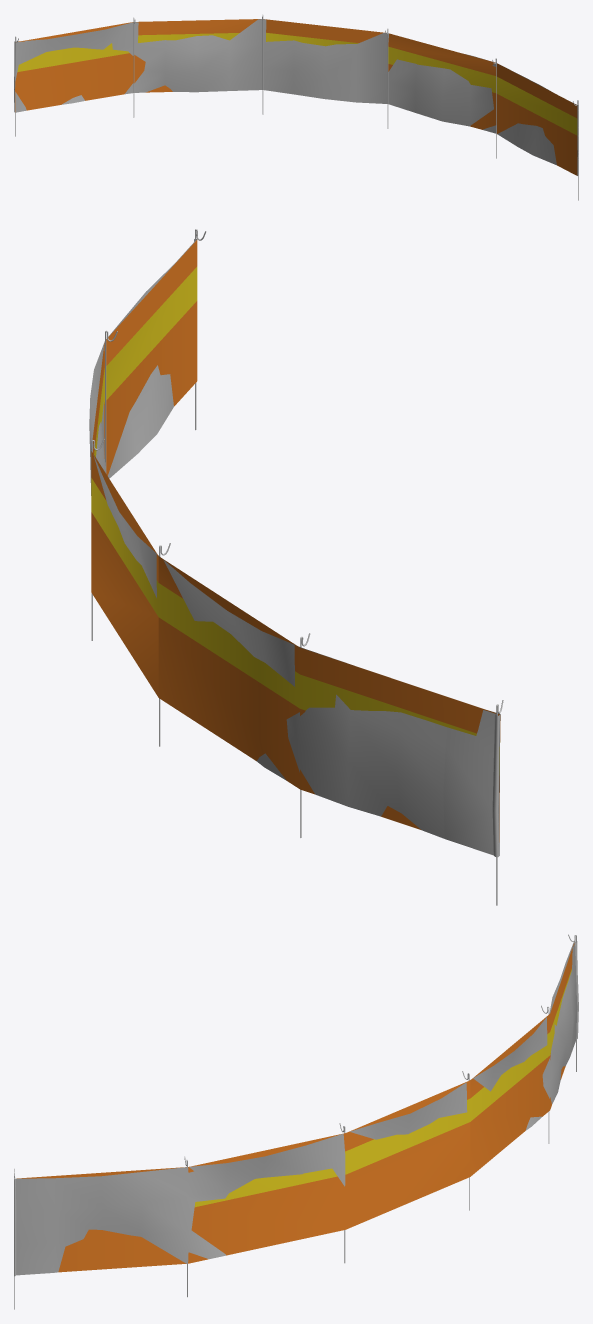
File: ut_race_mesh_barricade_curve.DAE
3 renders of one model, top to bottom at view 1: azimuth 30°, elevation 25°; view 2: azimuth 150°, elevation 25°; view 3: azimuth 270°, elevation 25°, orthographic. The views are drawn at different scales.
Visible parts, largest first — view 1: mesh_barricade_c1000, mesh_barricade_c80, mesh_barricade_c100; view 2: mesh_barricade_c80, mesh_barricade_c100, mesh_barricade_c1000; view 3: mesh_barricade_c80, mesh_barricade_c100, mesh_barricade_c1000.
Boxes of the visible parts, bbox=[...] form: mesh_barricade_c1000: bbox=[14, 14, 578, 200]; mesh_barricade_c80: bbox=[15, 19, 577, 175]; mesh_barricade_c100: bbox=[15, 39, 577, 175]; mesh_barricade_c80: bbox=[91, 240, 500, 842]; mesh_barricade_c100: bbox=[89, 242, 499, 838]; mesh_barricade_c1000: bbox=[89, 229, 503, 905]; mesh_barricade_c80: bbox=[17, 943, 574, 1272]; mesh_barricade_c100: bbox=[15, 942, 573, 1272]; mesh_barricade_c1000: bbox=[14, 934, 578, 1309].
Bounding box in the file's own units: 6.35 × 6.35 × 1.7.
